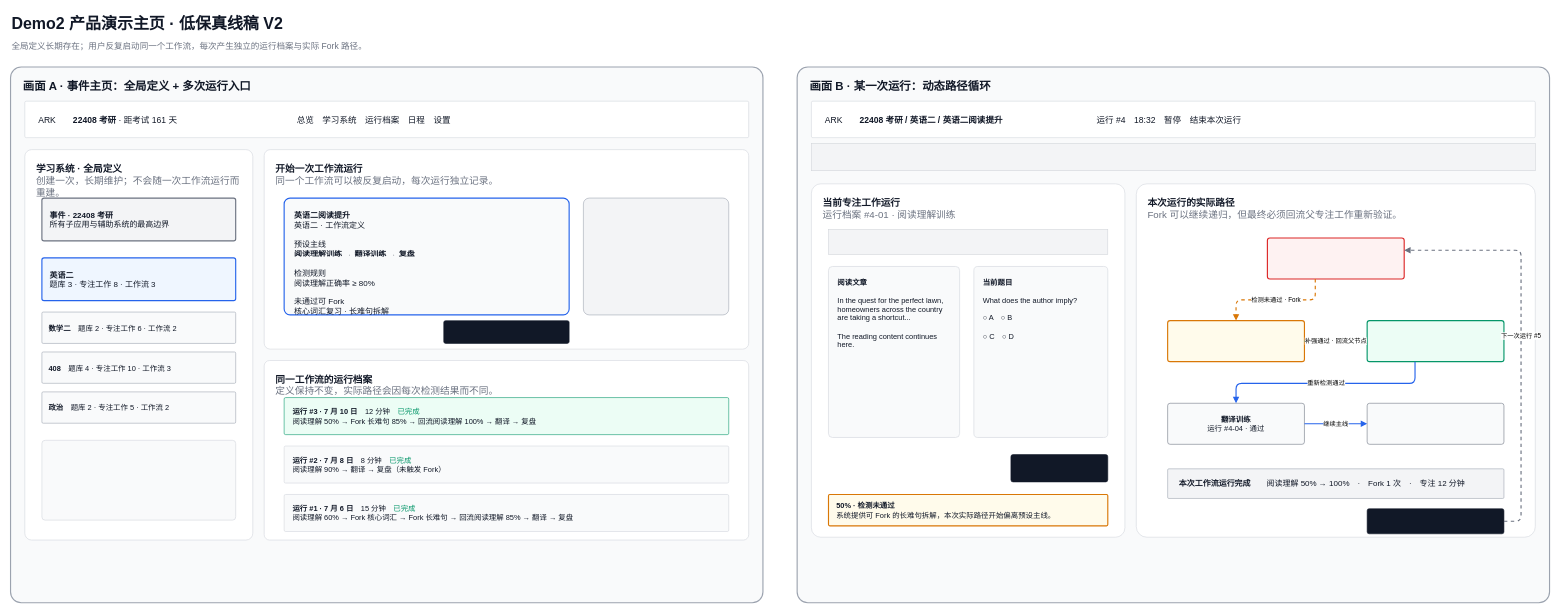
Some shapes in this 1560 by 613 pixel diagram are drawn without their labels. The centre of each missing label's shape, as x and y in pixels:
"Fork · 长难句拆解 运行 #4-02 · 85% 通过" belongs at [1236,341].
"上次运行 7 月 10 日 · 12 分钟 阅读理解 50% → Fork 长难句 → 回流后 100% 最终通过" belongs at [656,256].
"主线 1 / 3 · 阅读理解训练 · 检测标准 ≥ 80%" belongs at [968,242].
"再次运行同一工作流 ↻" belongs at [1435,521].
"启动新的运行 →" belongs at [506,331].
"回流 · 阅读理解训练 运行 #4-03 · 100% 通过" belongs at [1435,341].
"复盘完成 运行 #4-05 · 保存档案" belongs at [1435,423].
"引用全局定义 英语二阅读提升 v1 · 本次运行只产生档案，不修改事件、专注工作或工作流定义" belongs at [1173,157].
"提交并检测" belongs at [1059,468].
"英语二 · 已定义内容 题库：2024 英语二真题 专注工作：阅读理解、核心词汇、长难句… 工作流：英语二阅读提升、真题模拟… 任务绑定、日程、成就为附加能力" belongs at [138,480].
"阅读理解训练 运行 #4-01 · 50% 未通过" belongs at [1335,258].
